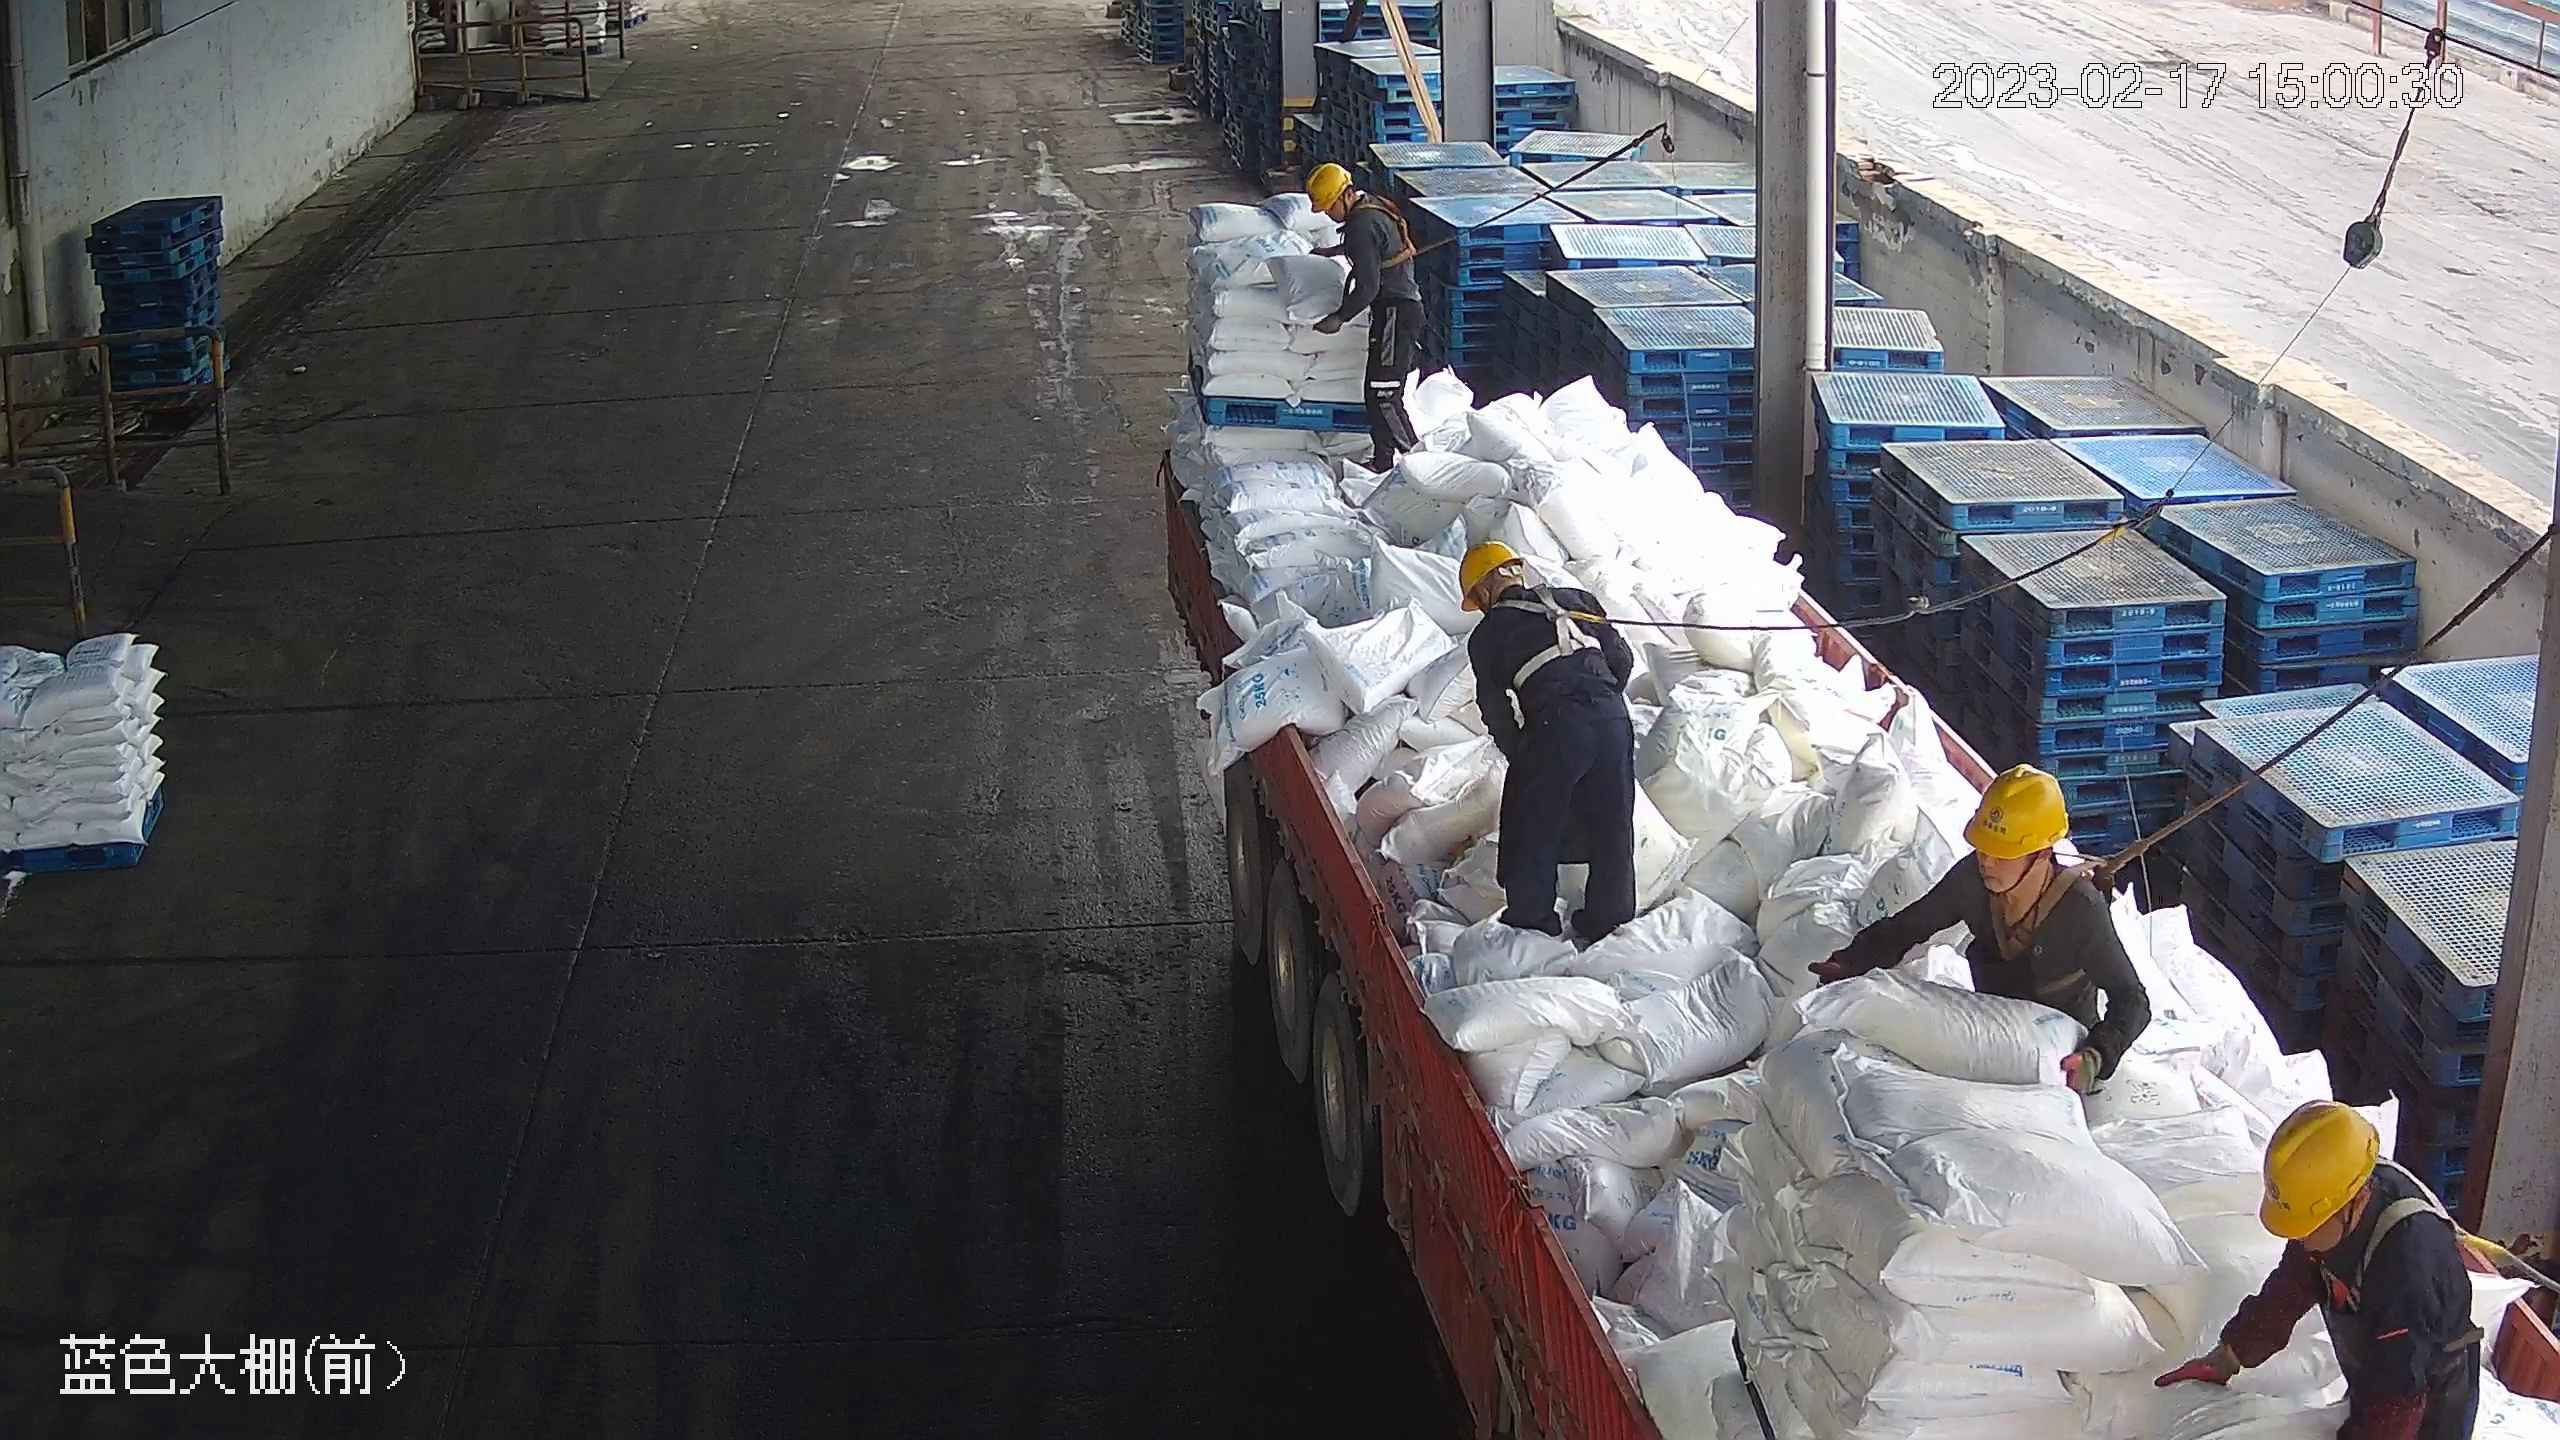belt: (2304, 1181, 2511, 1348), (1967, 854, 2104, 975), (1504, 586, 1615, 673), (1352, 194, 1425, 272)
head: (2243, 1102, 2475, 1319), (1927, 760, 2118, 962), (1456, 539, 1602, 651), (1305, 161, 1404, 247)
helmet: (2254, 1096, 2380, 1240), (1961, 761, 2068, 855), (1456, 537, 1525, 607), (1304, 160, 1353, 212)
people: (2161, 1094, 2486, 1434), (1458, 537, 1642, 941), (1300, 164, 1429, 479)
truck: (1148, 202, 2558, 1440)
